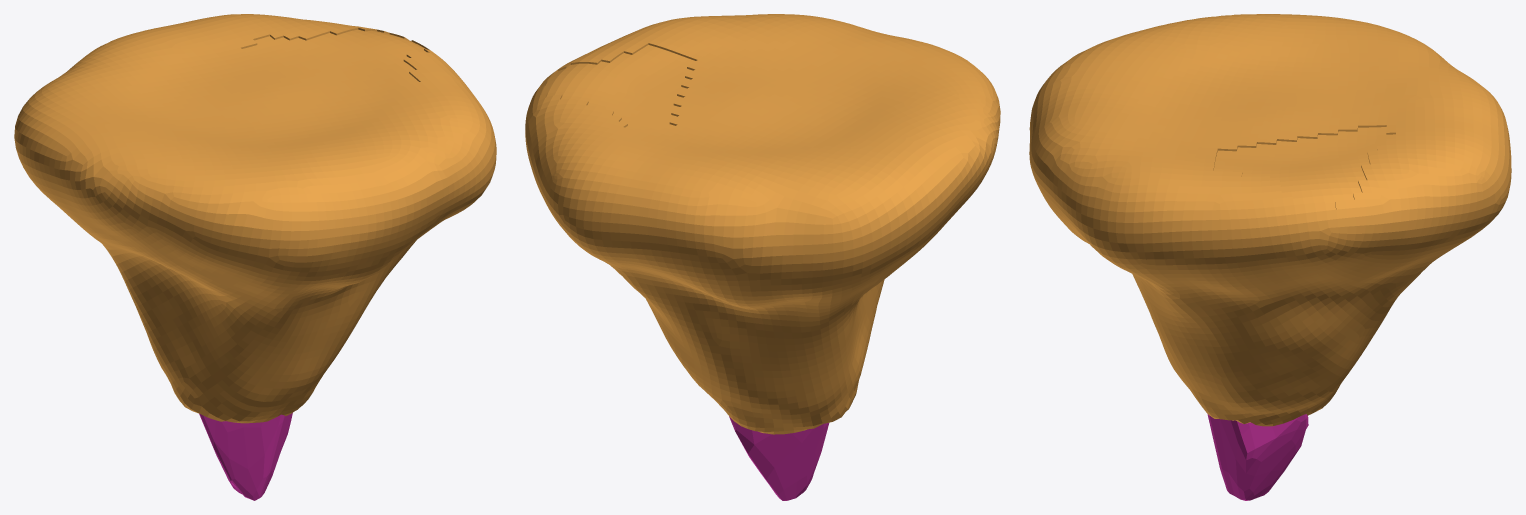
The model's file is Portalisland.fbx.
3 renders of one model, left to right at view 1: azimuth 30°, elevation 25°; view 2: azimuth 150°, elevation 25°; view 3: azimuth 270°, elevation 25°, orthographic. The views are drawn at different scales.
Parts seen in each view (by area): view 1: PortalIsland; view 2: PortalIsland; view 3: PortalIsland.
Part boxes in pixels (x1,y1,x2,y2): PortalIsland: (14, 14, 496, 500); PortalIsland: (525, 14, 1000, 500); PortalIsland: (1029, 14, 1511, 500).
Bounding box in the file's own units: 577 × 544 × 583.
